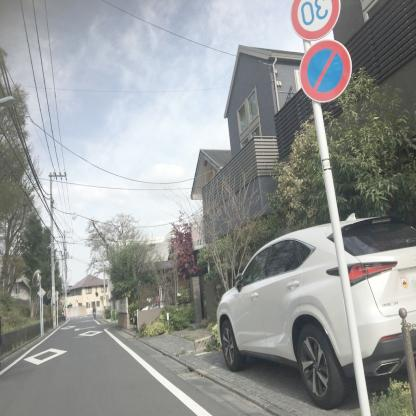Someiyoshino: (77, 207, 141, 282)
